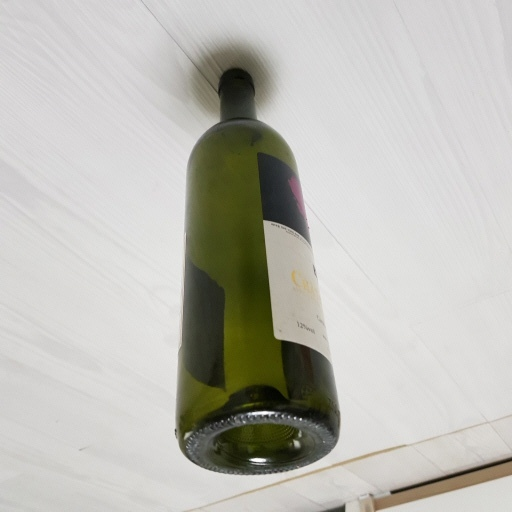Glass_2: (165, 64, 341, 481)
